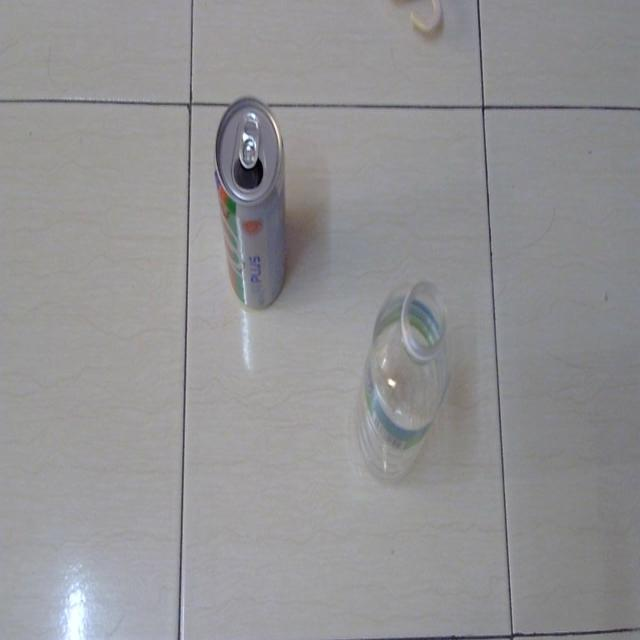metal_standrotation: (205, 93, 302, 317)
plastic_standrotation: (357, 266, 456, 488)
